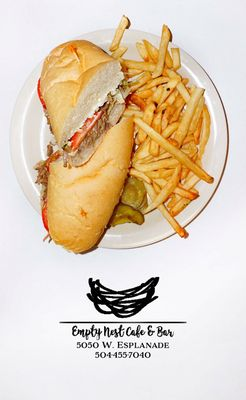soup: (35, 38, 129, 155)
